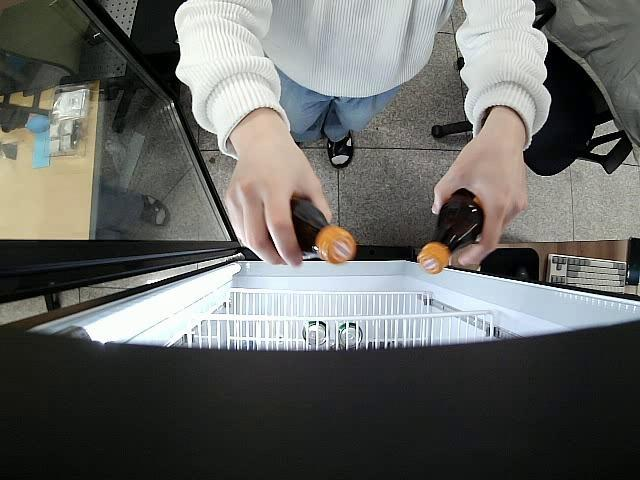17_vita500: (416, 188, 485, 276), (288, 195, 357, 264)
